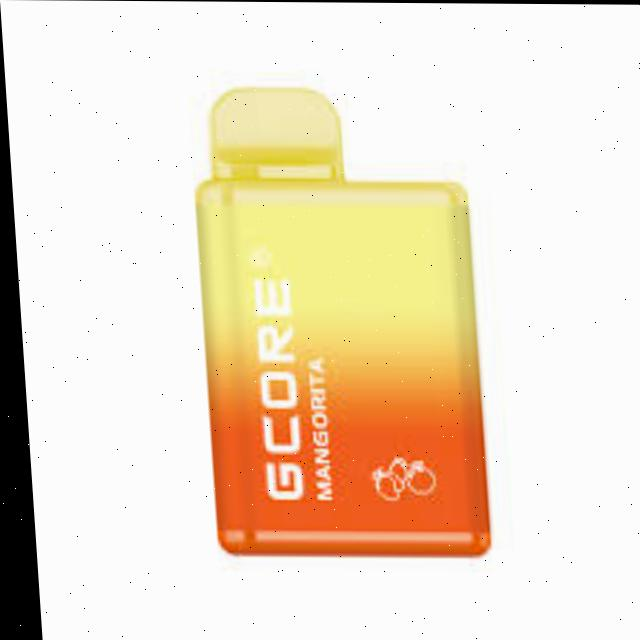vape: (187, 86, 486, 556)
